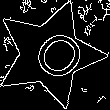O_SW: (16, 21, 84, 87)
